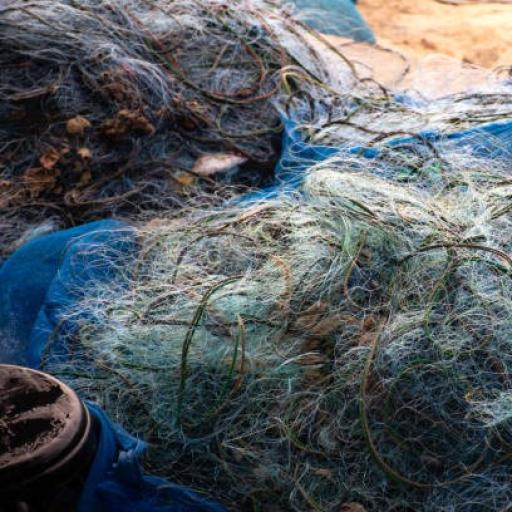net: (52, 133, 512, 512), (2, 3, 408, 239)
